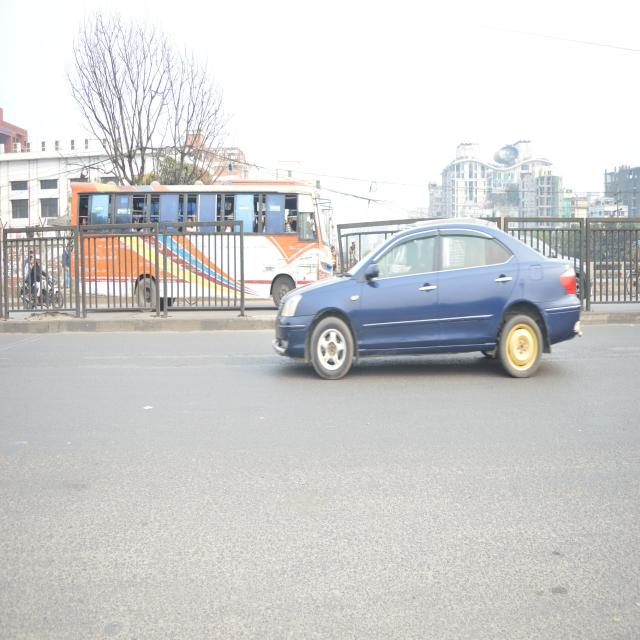car: (268, 200, 600, 408)
